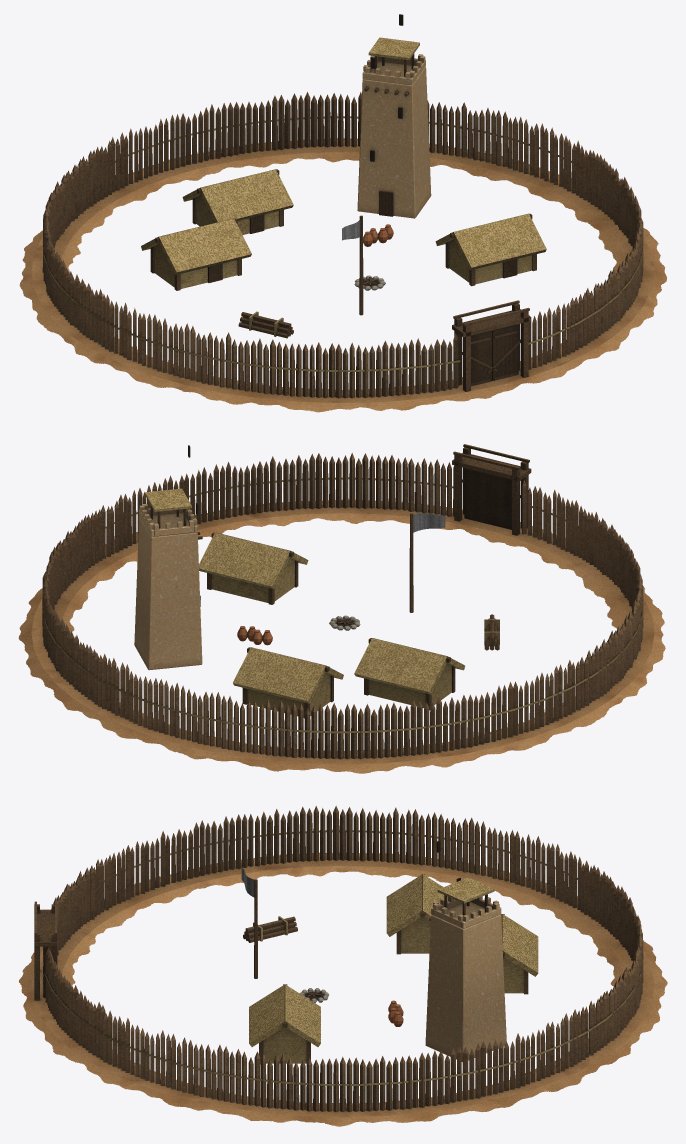
File: fort-bronze-061e3245.glb
The picture shows the model from 3 angles, top to bottom: view 1: azimuth 30°, elevation 25°; view 2: azimuth 150°, elevation 25°; view 3: azimuth 270°, elevation 25°; orthographic projection.
Visible parts, largest first — view 1: LOD0; view 2: LOD0; view 3: LOD0.
Boxes of the visible parts, box(x1,y1,x2,y2) form: LOD0: box(19, 14, 666, 412); LOD0: box(18, 444, 665, 773); LOD0: box(19, 805, 667, 1126).
Size of what is drawn, in the model's own units: 4.54 by 1.54 by 4.54.
3 materials, 3 textured.
